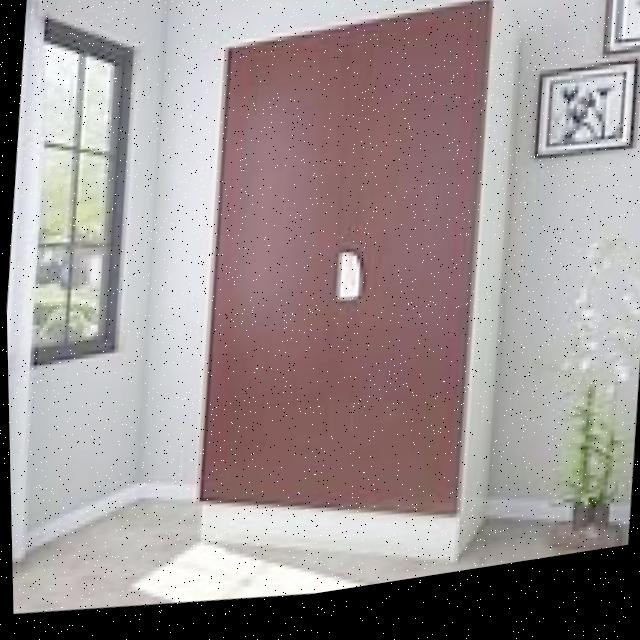dolap: (180, 0, 514, 584)
